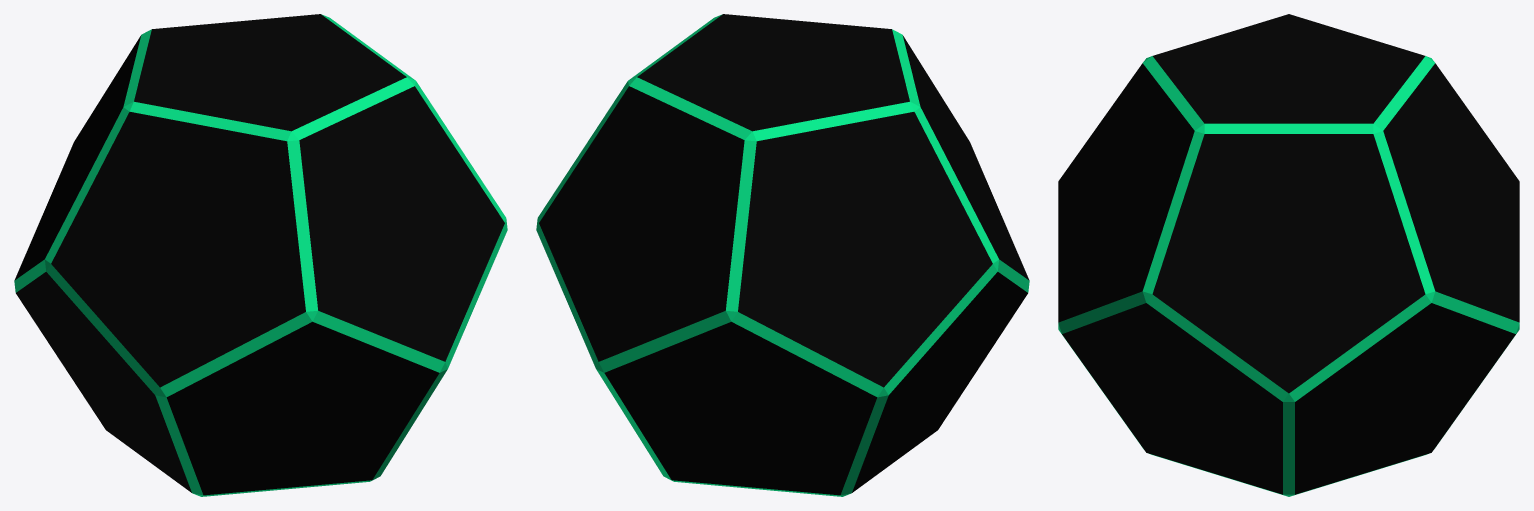
Rendered from core.fbx.
3 renders of one model, left to right at view 1: azimuth 30°, elevation 25°; view 2: azimuth 150°, elevation 25°; view 3: azimuth 270°, elevation 25°, orthographic. The views are drawn at different scales.
Parts seen in each view (by area): view 1: Icosphere; view 2: Icosphere; view 3: Icosphere.
Part boxes in pixels (x1=…): Icosphere: x1=14, y1=14, x2=507, y2=496; Icosphere: x1=536, y1=14, x2=1029, y2=496; Icosphere: x1=1058, y1=14, x2=1519, y2=496.
Bounding box in the file's own units: 110 × 90.58 × 105.
